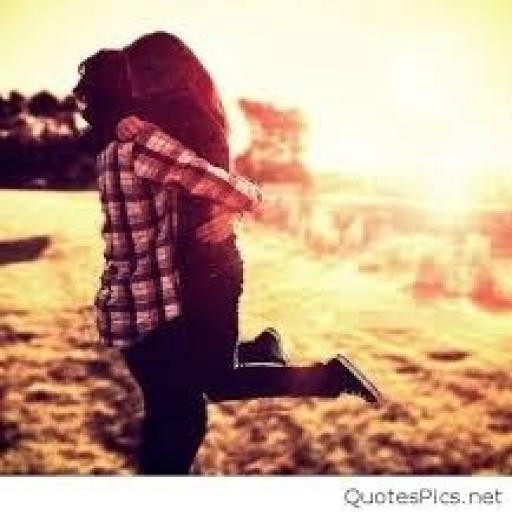hugging: (66, 26, 387, 475)
